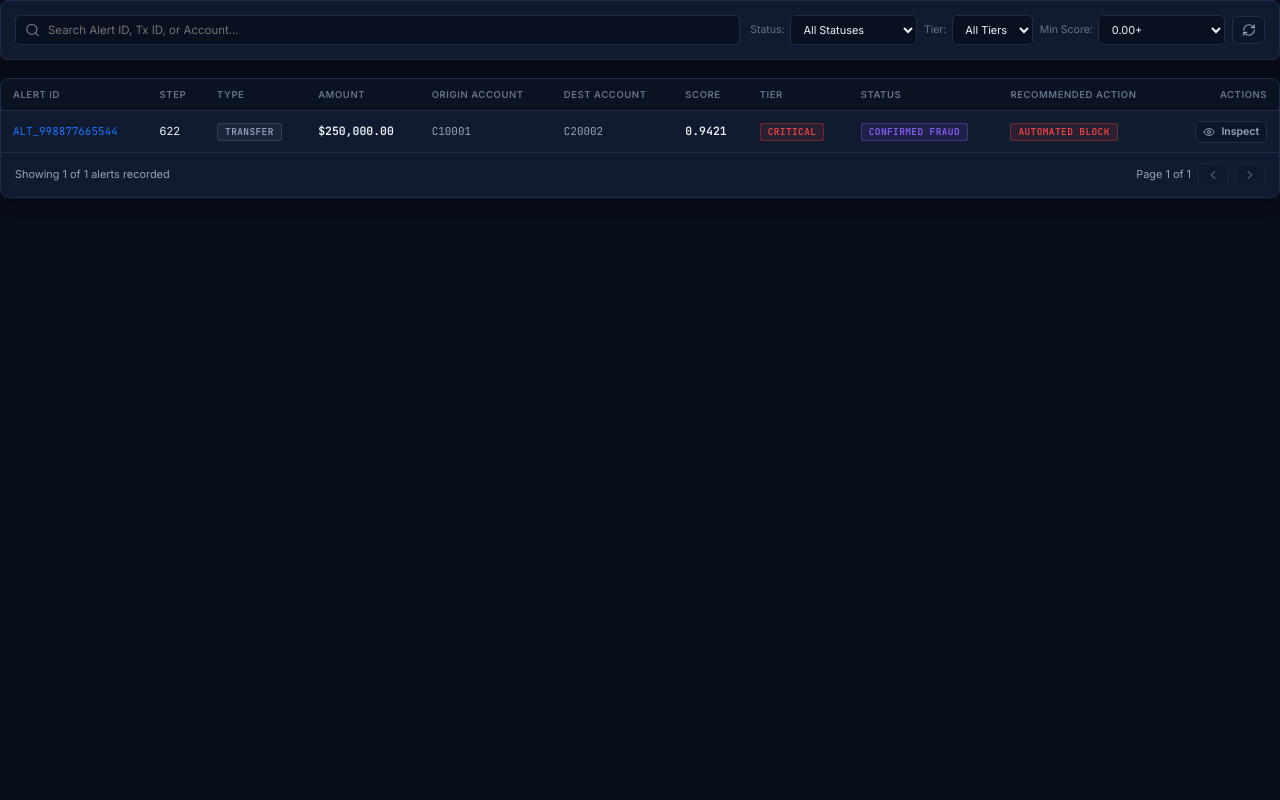
it: AlertsPage & AlertDetailModal › shows terminal state banner when alert is CONFIRMED_FRAUD
The image size is (1280, 800).
Check: the text "Inspect" is shown, box [1221,125,1259,138]
Click the button "Inspect" at coordinates (1231, 132), box [1195,121,1267,143]
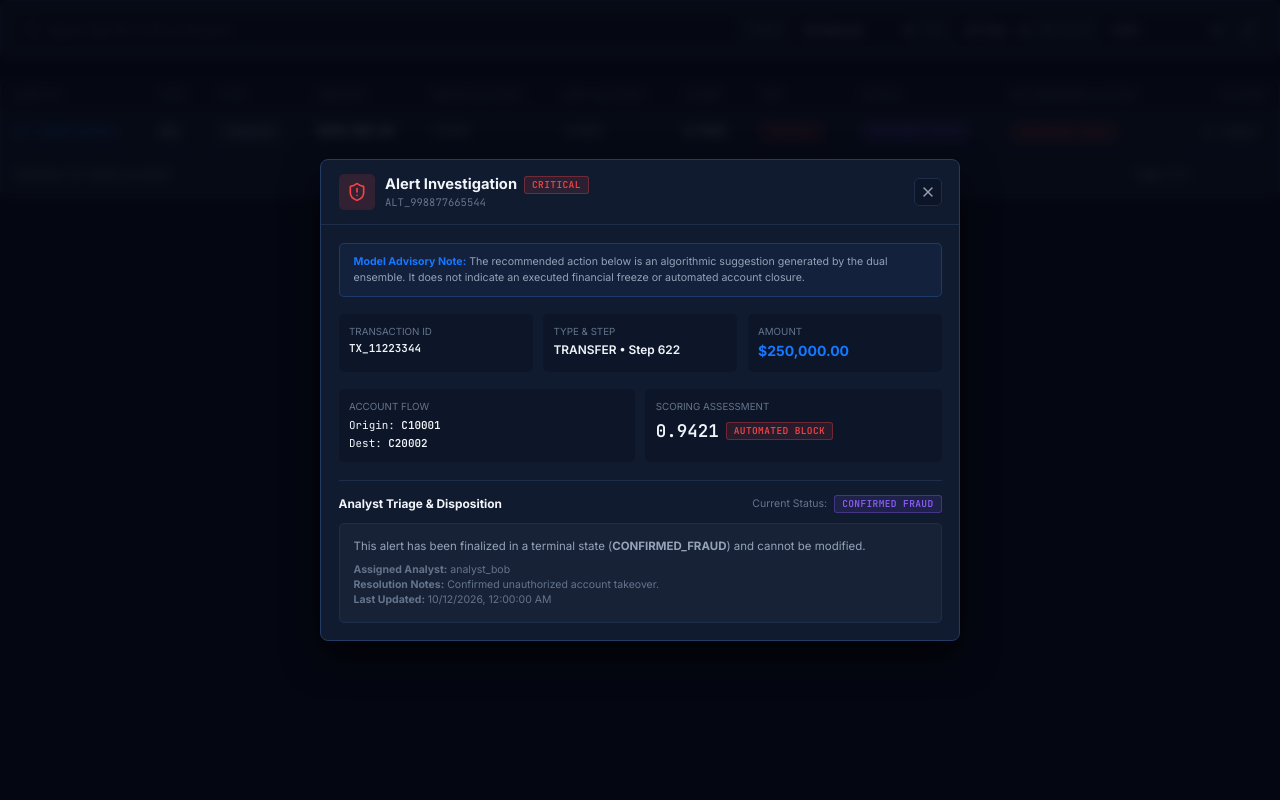
Check: the text "This alert has been finalized in a terminal state" is shown, box [354,539,612,553]
